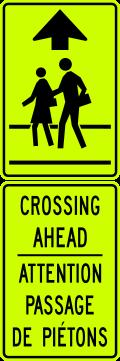School Ahead: (16, 12, 103, 165)
